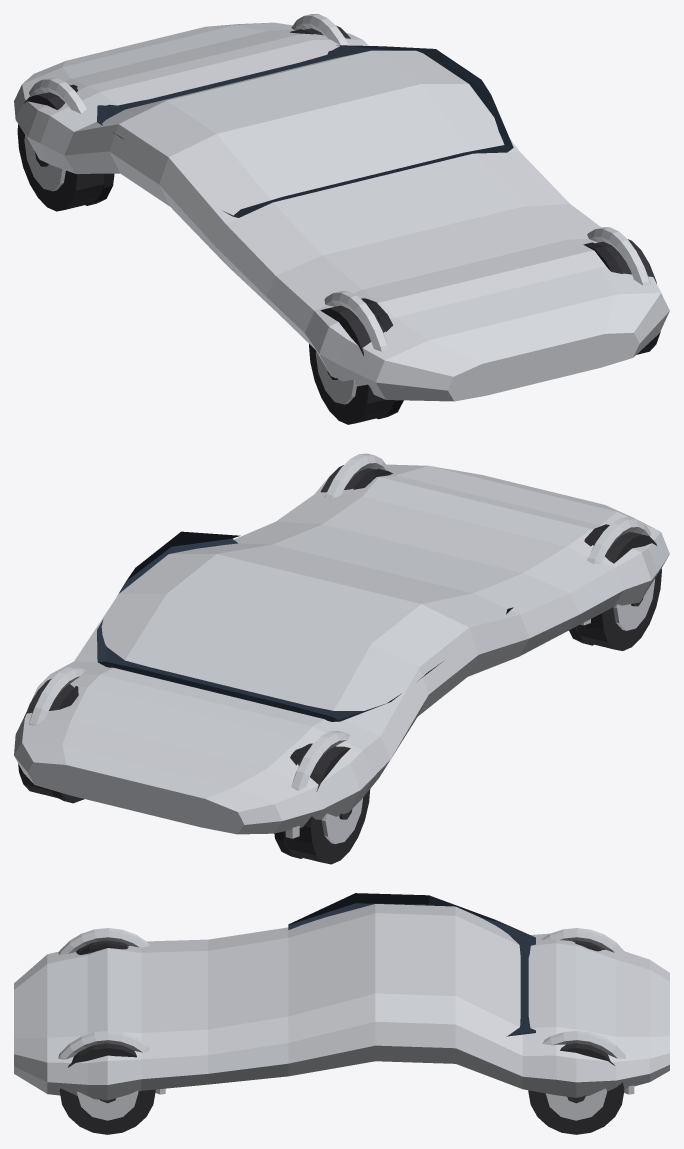
Rendered from muscle.glb.
3 renders of one model, top to bottom at view 1: azimuth 30°, elevation 25°; view 2: azimuth 150°, elevation 25°; view 3: azimuth 270°, elevation 25°, orthographic. The views are drawn at different scales.
Parts seen in each view (by area): view 1: body, glass_canopy, wheel_front_tyre.001, wheel_rear_tyre.001, body_arch.001, body_arch, wheel_rear_rim.001, body_arch.003, wheel_front_rim.001, body_arch.002, wheel_front_tyre; view 2: body, glass_canopy, wheel_rear_tyre.001, wheel_front_tyre.001, body_arch.003, body_arch.001, body_arch.002, body_arch, wheel_rear_rim.001, wheel_front_rim.001, wheel_rear_tyre; view 3: body, glass_canopy, wheel_front_tyre, wheel_rear_tyre, body_arch, wheel_rear_rim, body_arch.001, body_arch.002, wheel_front_rim, body_arch.003.
Part boxes in pixels (left/top/right/bottom): body: left=14, top=22, right=669, bottom=401; glass_canopy: left=97, top=45, right=513, bottom=217; wheel_front_tyre.001: left=309, top=305, right=394, bottom=424; wheel_rear_tyre.001: left=17, top=92, right=104, bottom=211; body_arch.001: left=324, top=291, right=387, bottom=351; body_arch: left=587, top=227, right=650, bottom=285; wheel_rear_rim.001: left=24, top=135, right=65, bottom=191; body_arch.003: left=29, top=78, right=86, bottom=113; wheel_front_rim.001: left=315, top=351, right=356, bottom=404; body_arch.002: left=291, top=14, right=348, bottom=45; wheel_front_tyre: left=590, top=239, right=660, bottom=354; body: left=14, top=464, right=669, bottom=834; glass_canopy: left=97, top=531, right=513, bottom=721; wheel_rear_tyre.001: left=283, top=746, right=370, bottom=864; wheel_front_tyre.001: left=576, top=532, right=661, bottom=650; body_arch.003: left=285, top=730, right=349, bottom=838; body_arch.001: left=580, top=517, right=650, bottom=625; body_arch.002: left=29, top=666, right=85, bottom=725; body_arch: left=324, top=453, right=387, bottom=498; wheel_rear_rim.001: left=321, top=798, right=362, bottom=843; wheel_front_rim.001: left=613, top=579, right=654, bottom=630; wheel_rear_tyre: left=18, top=678, right=82, bottom=801; body: left=14, top=904, right=669, bottom=1100; glass_canopy: left=288, top=893, right=535, bottom=1036; wheel_front_tyre: left=59, top=1043, right=155, bottom=1134; wheel_rear_tyre: left=528, top=1043, right=624, bottom=1134; body_arch: left=58, top=1031, right=165, bottom=1094; wheel_rear_rim: left=545, top=1088, right=606, bottom=1120; body_arch.001: left=58, top=928, right=149, bottom=954; body_arch.002: left=542, top=1031, right=634, bottom=1094; wheel_front_rim: left=77, top=1090, right=138, bottom=1120; body_arch.003: left=541, top=928, right=625, bottom=954.
Bounding box in the file's own units: 2.12 × 1.01 × 4.51.
